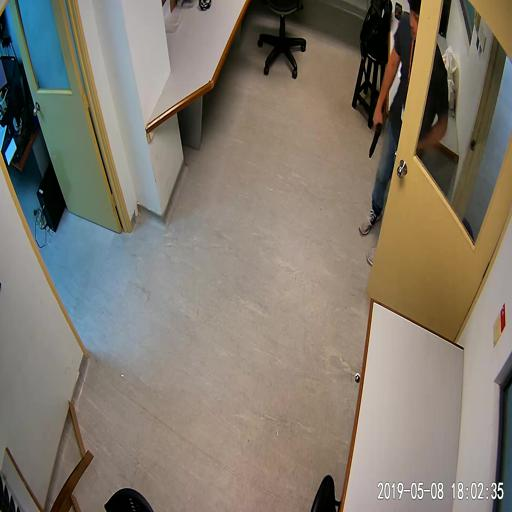pistol: (368, 118, 382, 158)
